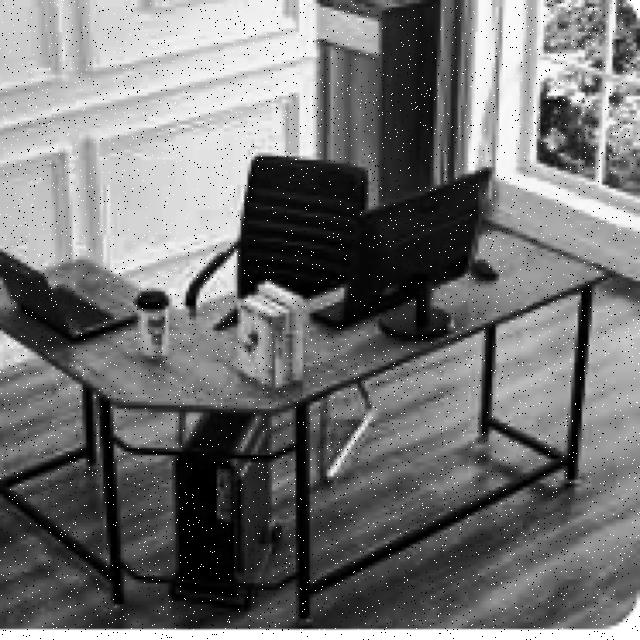book: (172, 136, 395, 459)
table: (0, 217, 609, 622)
